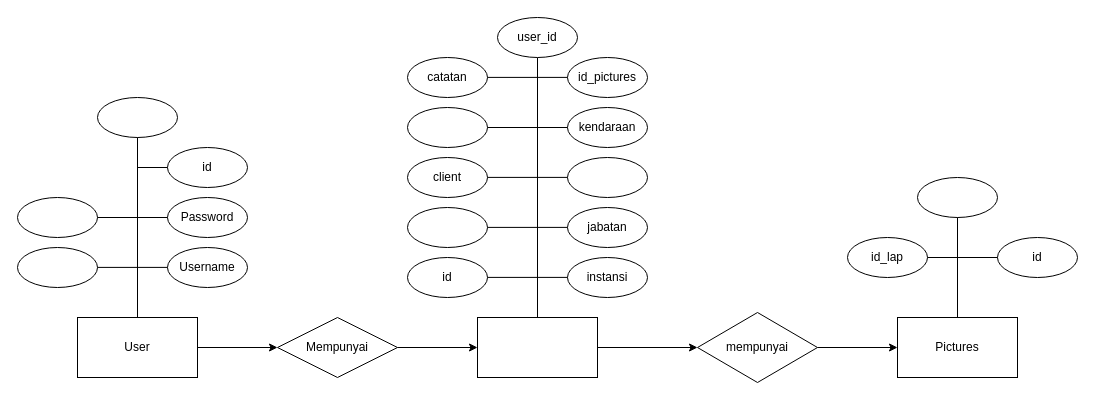
The diagram is 1095 pixels wide and 400 high, and some of its shapes have lost their labels. Here are the shapes that lost their labels. From the top down, the centre of each, then its label:
At pixel 137 117: "Phone".
At pixel 447 127: "jarak".
At pixel 607 177: "waktu".
At pixel 957 197: "image".
At pixel 57 217: "Email".
At pixel 447 227: "alamat_instansi".
At pixel 57 267: "Address".
At pixel 537 347: "Catatan Lapangan".
